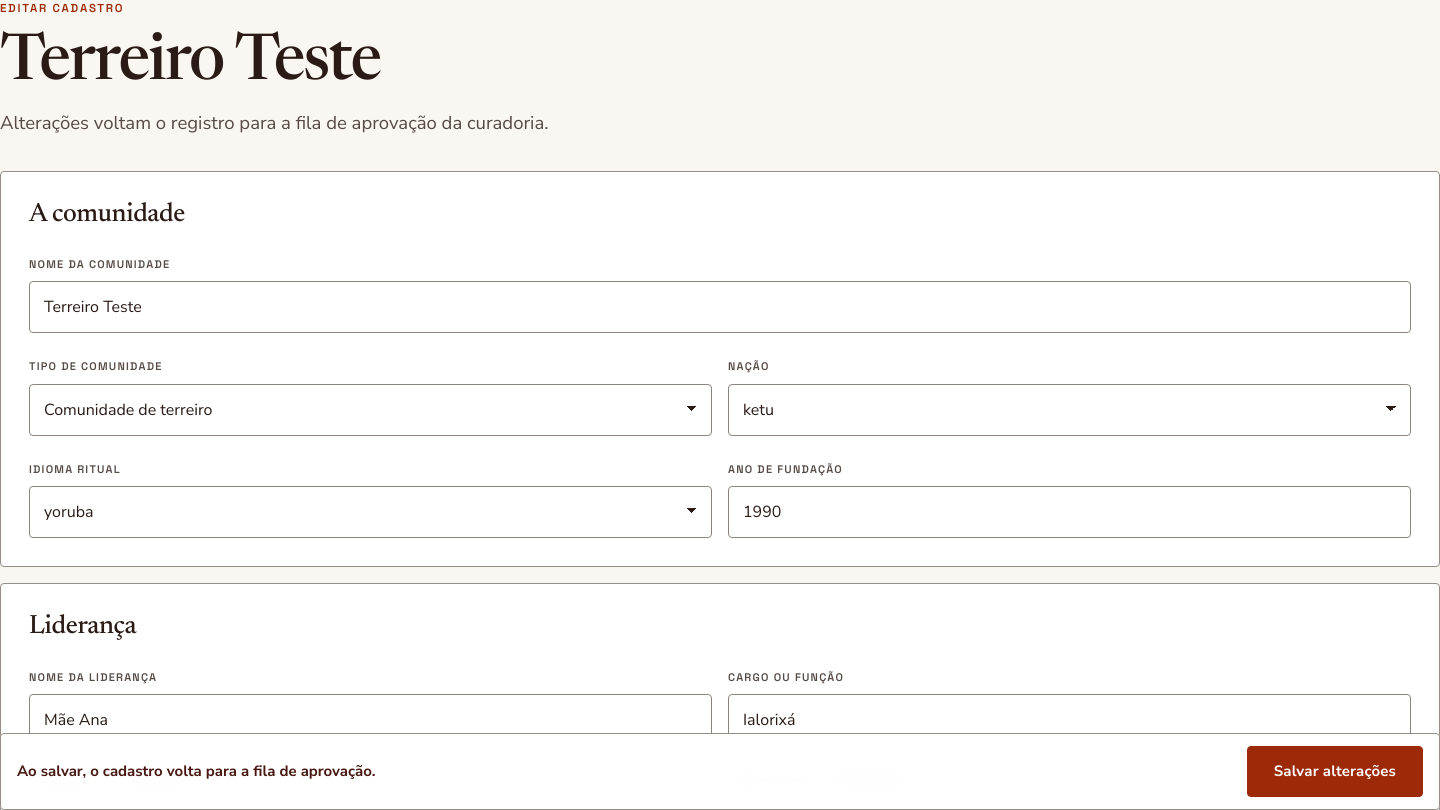
Test case: AdminCommunityEdit › mantém a pessoa na edição quando a API recusa
Expected: the field labelled "Nome da comunidade" is shown, [29,281,1411,333]
What coordinates should you click on to do the following:
click the button "Salvar alterações"
I would click on:
 (1335, 772)
Its box is [1247,746,1423,797].
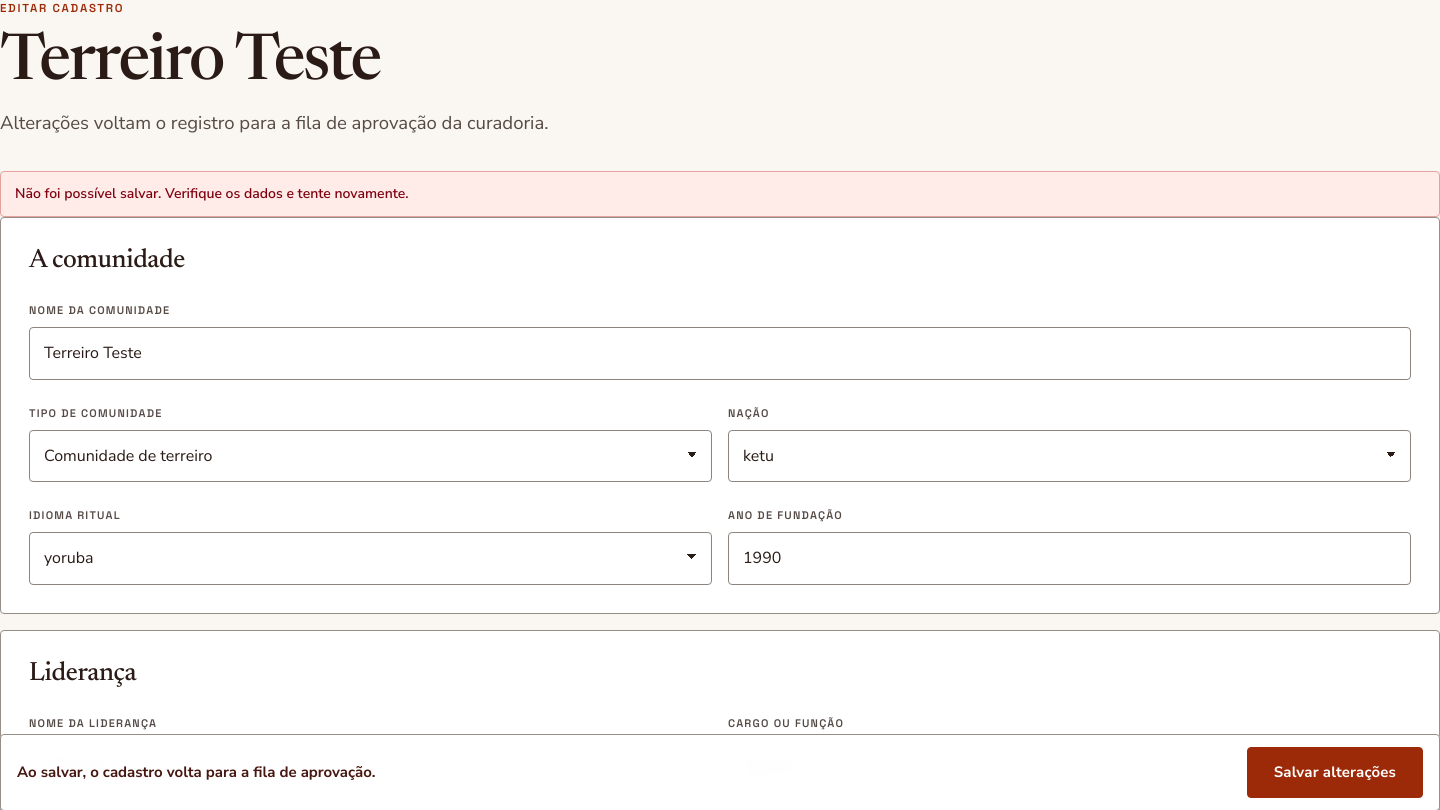
Result: the message shows "Não foi possível salvar" at [15,184,409,203]
